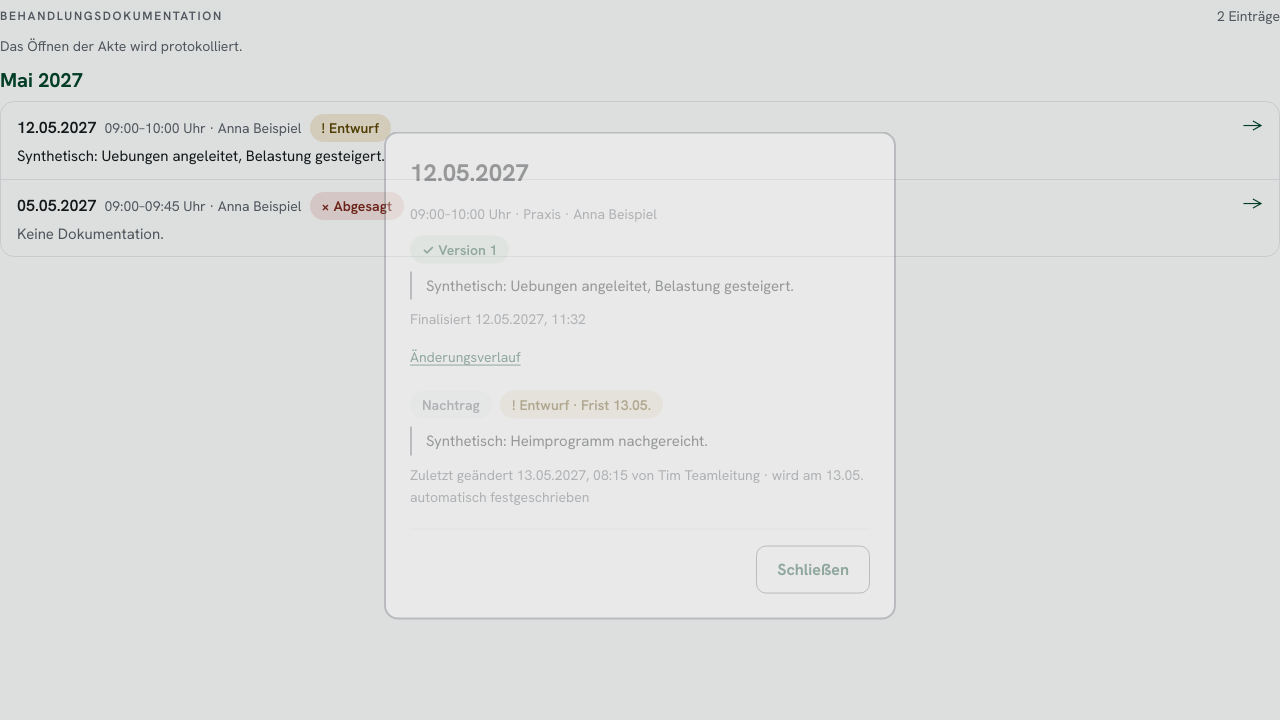
it: PatientRecordDocumentation (DOK-003, ROL-001) › zeigt therapist die Eintraege als Zeilen und im Lese-Fenster samt Herkunft
Expected: the list item that starts with "09:00–09:45 Uhr · Anna Beispiel" shows "Abgesagt", [1, 180, 1279, 256]
Expected: the list item that starts with "09:00–09:45 Uhr · Anna Beispiel" shows "Keine Dokumentation.", [1, 180, 1279, 256]
Click the button that starts with "09:00–10:00 Uhr · Anna Beispiel".
click(57, 128)  # box [1, 102, 1279, 179]
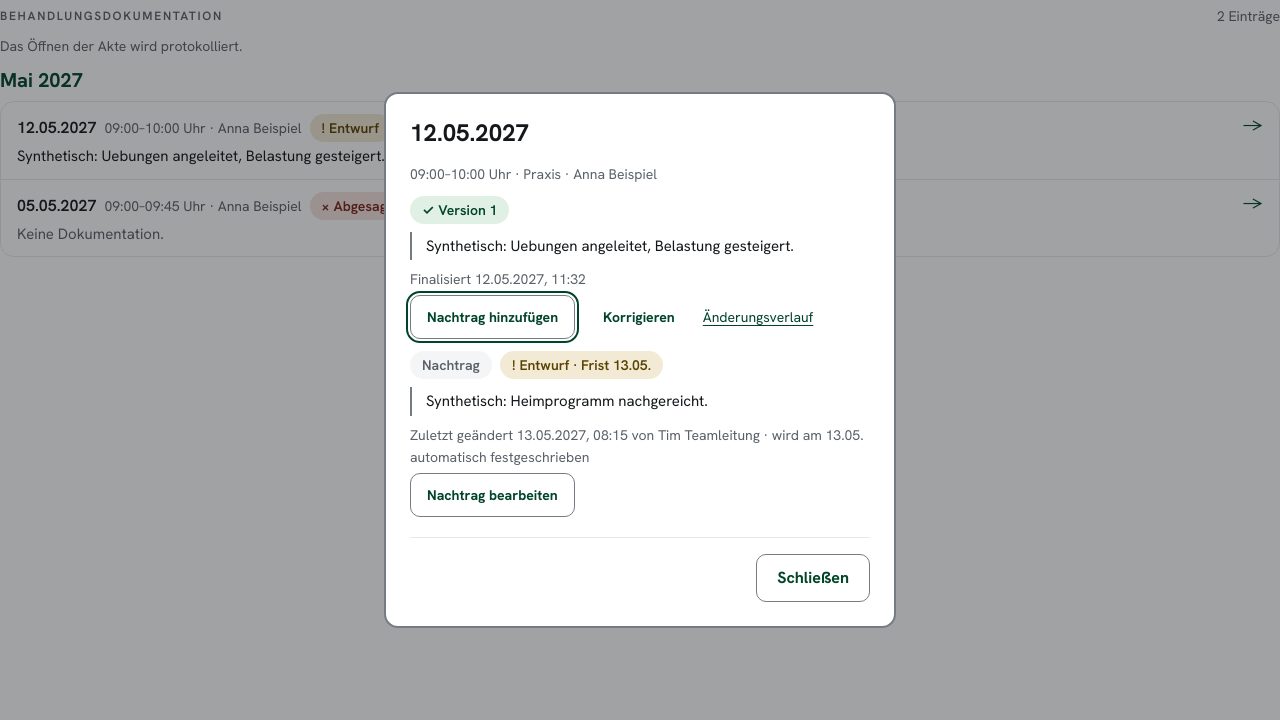
Expected: the dialog "12.05.2027" shows "09:00–10:00 Uhr · Praxis · Anna Beispiel", [410, 165, 657, 183]
Expected: the dialog "12.05.2027" shows "Finalisiert 12.05.2027, 11:32", [410, 270, 586, 288]
Expected: the dialog "12.05.2027" shows "Nachtrag", [422, 356, 480, 374]
